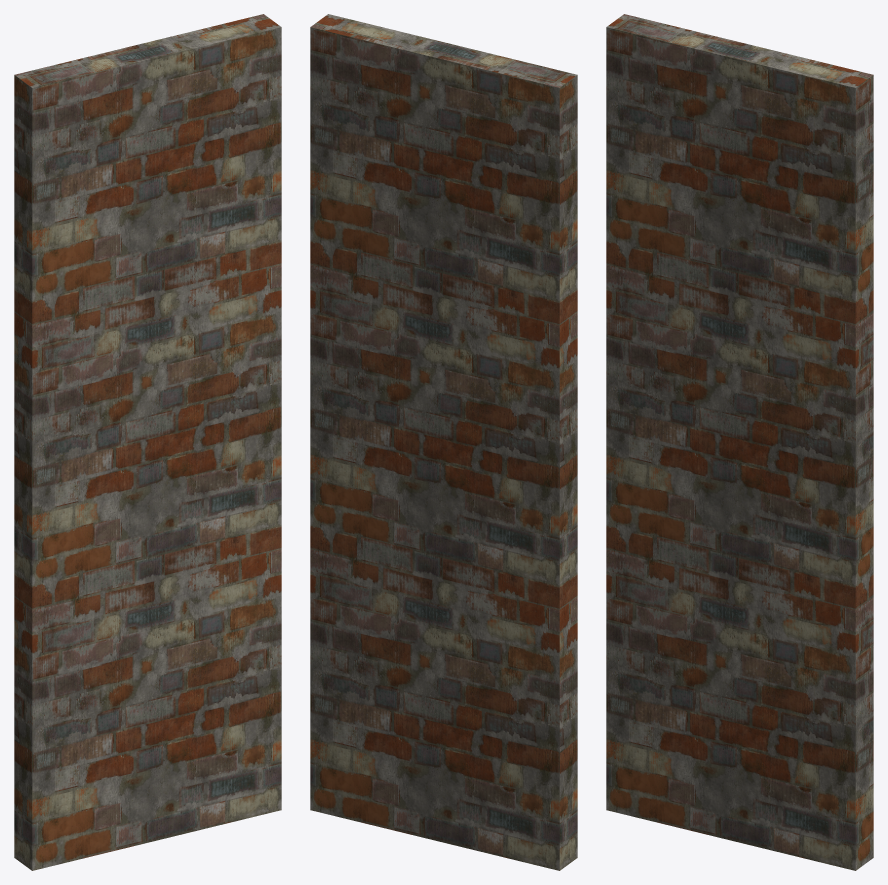
Rendered from wall_basic.glb.
3 renders of one model, left to right at view 1: azimuth 30°, elevation 25°; view 2: azimuth 150°, elevation 25°; view 3: azimuth 330°, elevation 25°, orthographic.
Parts seen in each view (by area): view 1: WALL (×3); view 2: WALL (×3); view 3: WALL (×3).
Boxes of the visible parts, bbox=[...] form: WALL (×3): bbox=[14, 14, 281, 870]; WALL (×3): bbox=[310, 14, 577, 870]; WALL (×3): bbox=[606, 14, 873, 870].
Size of the model in its own units: 1 by 3 by 0.125.
3 materials, 3 textured.
